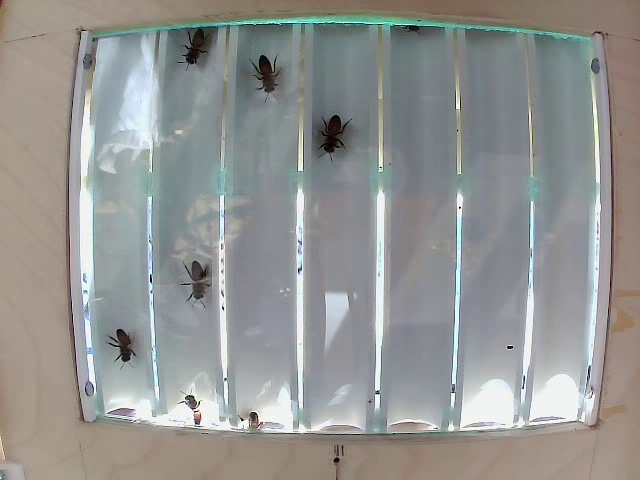bee: (176, 252, 221, 306), (115, 315, 154, 368), (315, 105, 352, 159), (185, 33, 226, 68), (245, 51, 271, 90)
